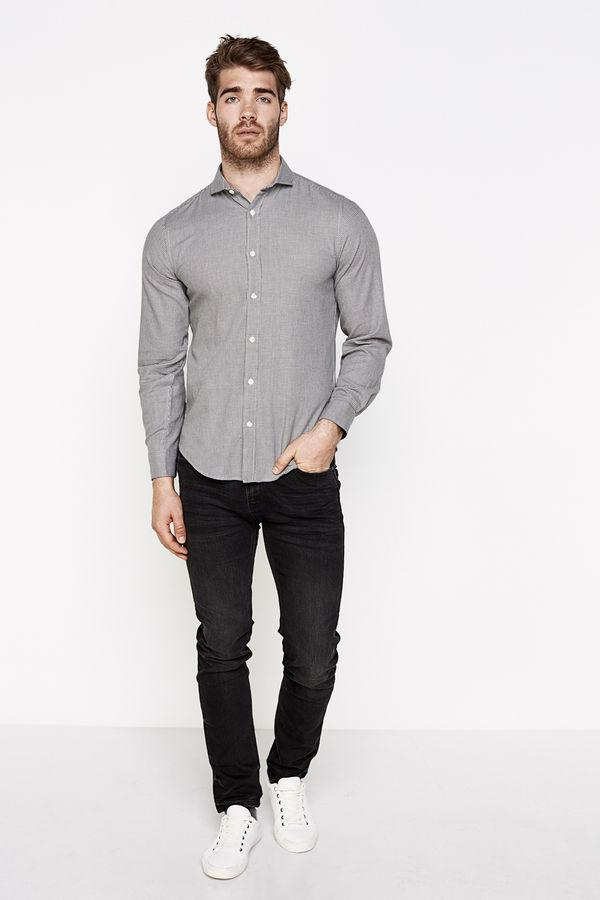teeshirt: (124, 148, 389, 549)
